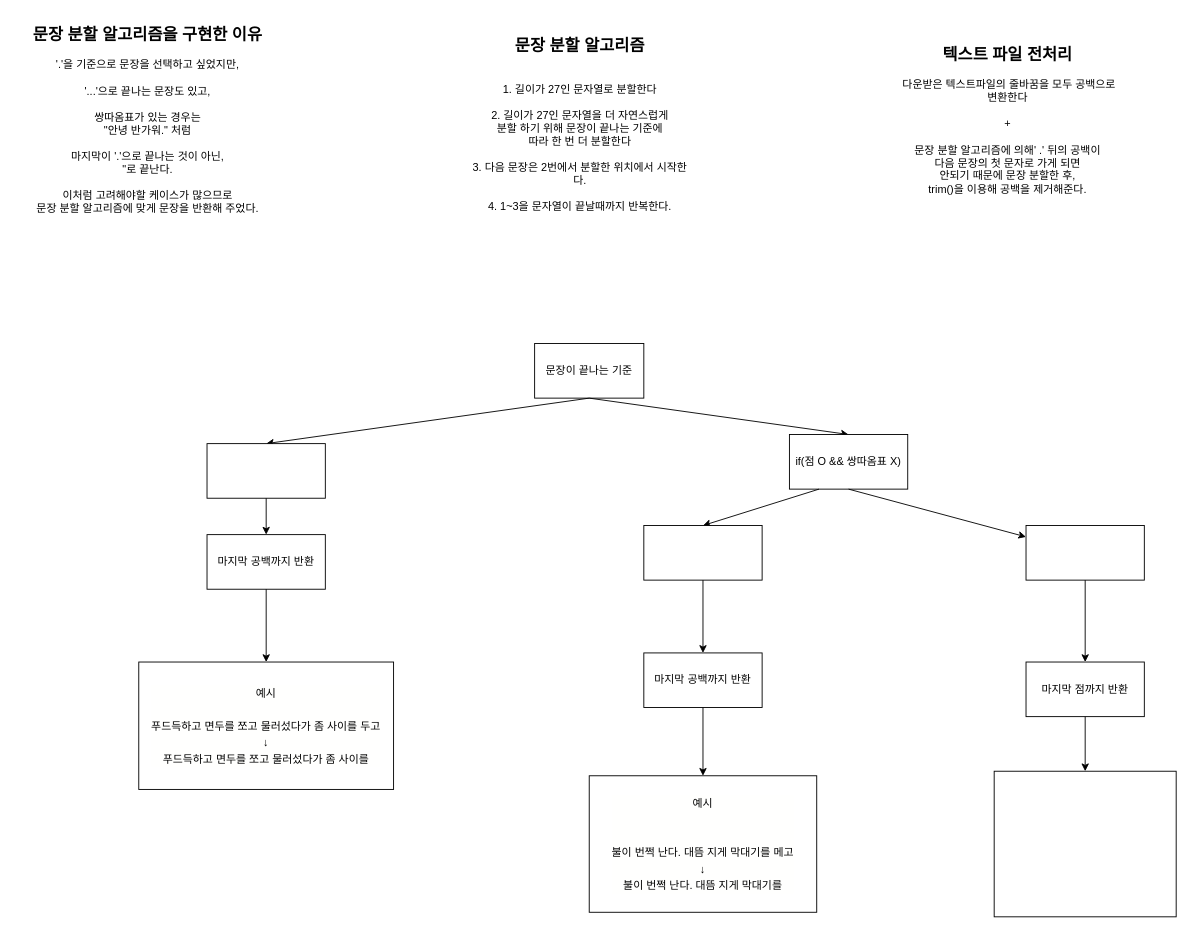
Image size: 1192x933. Some labels were removed from this diagram. The shapes that lost their labels are listed below. From the top down, each one's centre as x and y in pixels, then its label:
At point (265, 470): "if(점 X && 쌍따옴표 X)".
At point (702, 552): "if(점의 개수 == 1)".
At point (1084, 552): "if(점의 개수 >1)".
At point (1084, 843): "예시 나는 너무 슬프다... 너도 그럴 거 같아 ↓ 나는 너무 슬프다...".
